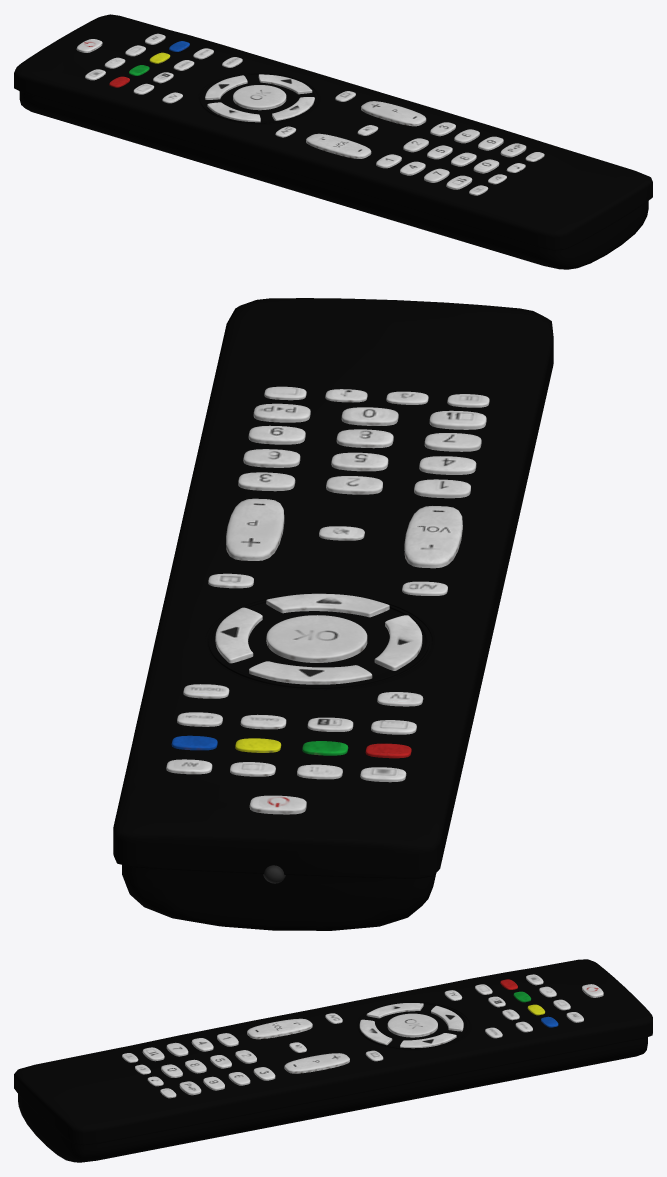
The model's file is remote.glb.
The picture shows the model from 3 angles, top to bottom: view 1: azimuth 30°, elevation 25°; view 2: azimuth 150°, elevation 25°; view 3: azimuth 270°, elevation 25°; orthographic projection. The views are drawn at different scales.
Visible parts, largest first — view 1: Base; view 2: Base; view 3: Base.
Part boxes in pixels (box(x1,y1,x2,y2)): Base: box(14, 14, 652, 269); Base: box(113, 298, 553, 930); Base: box(14, 959, 652, 1162).
Size of the model in its own units: 0.5685 by 0.0855 by 0.8974.
Materials: 1 (1 with a texture image).
